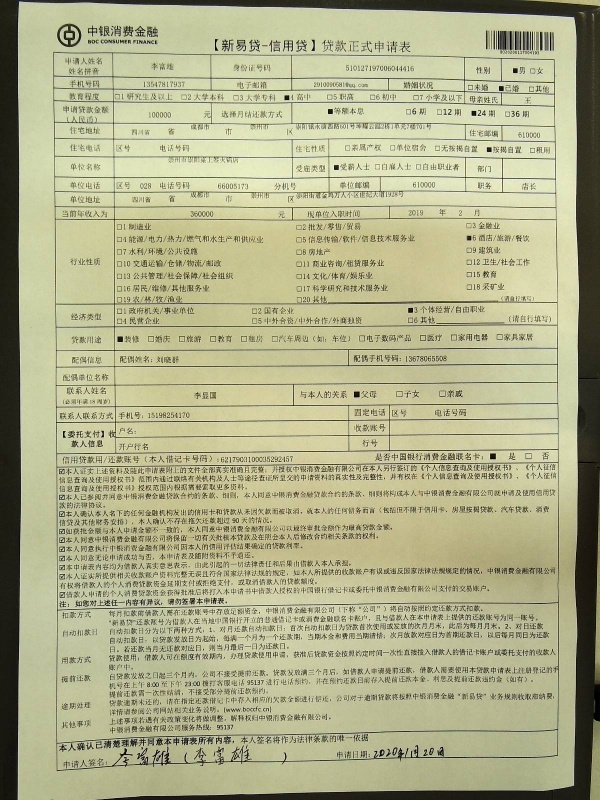text: (113, 744, 128, 770), (129, 744, 144, 770), (145, 744, 160, 770), (161, 744, 176, 770), (177, 744, 192, 770), (193, 744, 208, 770), (209, 744, 224, 770), (225, 744, 240, 770), (241, 744, 256, 770), (257, 744, 272, 770), (273, 744, 288, 770), (65, 733, 80, 754), (81, 733, 96, 754), (97, 733, 112, 754), (113, 733, 128, 754), (129, 733, 144, 754), (145, 733, 160, 754), (161, 733, 176, 754), (177, 733, 192, 754), (193, 733, 208, 754), (209, 733, 224, 754), (225, 733, 240, 754), (241, 733, 256, 754), (257, 733, 272, 754), (273, 733, 288, 754), (289, 733, 304, 754), (305, 733, 320, 754), (321, 733, 336, 754), (337, 733, 352, 754), (353, 733, 368, 754), (385, 742, 400, 761), (401, 742, 416, 761), (417, 742, 432, 761), (433, 742, 448, 761), (225, 38, 240, 56), (241, 38, 256, 56), (257, 38, 272, 56), (273, 38, 288, 56), (289, 38, 304, 56), (305, 38, 320, 56), (321, 38, 336, 56), (337, 38, 352, 56), (353, 38, 368, 56), (369, 38, 384, 56), (385, 38, 400, 56), (401, 38, 416, 56), (305, 231, 320, 247), (321, 231, 336, 247), (337, 231, 352, 247), (353, 231, 368, 247), (369, 231, 384, 247), (385, 231, 400, 247), (401, 231, 416, 247), (65, 566, 80, 582), (81, 566, 96, 582), (97, 566, 112, 582), (113, 566, 128, 582), (129, 566, 144, 582), (145, 566, 160, 582), (161, 566, 176, 582), (177, 566, 192, 582), (193, 566, 208, 582), (209, 566, 224, 582), (225, 566, 240, 582), (241, 566, 256, 582), (257, 566, 272, 582), (273, 566, 288, 582), (289, 566, 304, 582), (305, 566, 320, 582), (321, 566, 336, 582), (337, 566, 352, 582), (353, 566, 368, 582), (369, 566, 384, 582), (385, 566, 400, 582), (401, 566, 416, 582), (417, 566, 432, 582), (433, 566, 448, 582), (449, 566, 464, 582), (465, 566, 480, 582), (481, 566, 496, 582), (497, 566, 512, 582), (513, 566, 528, 582), (529, 566, 544, 582), (65, 584, 80, 600), (81, 584, 96, 600), (97, 584, 112, 600), (113, 584, 128, 600), (129, 584, 144, 600), (145, 584, 160, 600), (161, 584, 176, 600), (177, 584, 192, 600), (193, 584, 208, 600), (209, 584, 224, 600), (225, 584, 240, 600), (241, 584, 256, 600), (257, 584, 272, 600), (273, 584, 288, 600), (289, 584, 304, 600), (305, 584, 320, 600), (321, 584, 336, 600), (337, 584, 352, 600), (353, 584, 368, 600), (369, 584, 384, 600), (385, 584, 400, 600), (401, 584, 416, 600), (417, 584, 432, 600), (433, 584, 448, 600), (449, 584, 464, 600), (465, 584, 480, 600), (65, 596, 80, 612), (81, 596, 96, 612), (97, 596, 112, 612), (113, 596, 128, 612), (129, 596, 144, 612), (145, 596, 160, 612), (161, 596, 176, 612), (177, 596, 192, 612), (193, 596, 208, 612), (209, 596, 224, 612), (113, 621, 128, 637), (129, 621, 144, 637), (145, 621, 160, 637), (161, 621, 176, 637), (177, 621, 192, 637), (193, 621, 208, 637), (209, 621, 224, 637), (225, 621, 240, 637), (241, 621, 256, 637), (257, 621, 272, 637), (273, 621, 288, 637), (289, 621, 304, 637), (305, 621, 320, 637), (321, 621, 336, 637), (337, 621, 352, 637), (353, 621, 368, 637), (369, 621, 384, 637), (385, 621, 400, 637), (401, 621, 416, 637), (417, 621, 432, 637), (433, 621, 448, 637), (449, 621, 464, 637), (465, 621, 480, 637), (481, 621, 496, 637), (497, 621, 512, 637), (513, 621, 528, 637), (529, 621, 544, 637), (545, 666, 561, 681), (113, 675, 128, 691), (129, 675, 144, 691), (145, 675, 160, 691), (161, 675, 176, 691), (177, 675, 192, 691), (193, 675, 208, 691), (209, 675, 224, 691), (225, 675, 240, 691), (241, 675, 256, 691), (257, 675, 272, 691), (273, 675, 288, 691), (289, 675, 304, 691), (305, 675, 320, 691), (321, 675, 336, 691), (337, 675, 352, 691), (353, 675, 368, 691), (369, 675, 384, 691), (385, 675, 400, 691), (401, 675, 416, 691), (417, 675, 432, 691), (433, 675, 448, 691), (449, 675, 464, 691), (465, 675, 480, 691), (481, 675, 496, 691), (497, 675, 512, 691), (513, 675, 528, 691), (113, 692, 128, 708), (129, 692, 144, 708), (145, 692, 160, 708), (161, 692, 176, 708), (177, 692, 192, 708), (193, 692, 208, 708), (209, 692, 224, 708), (225, 692, 240, 708), (241, 692, 256, 708), (257, 692, 272, 708), (273, 692, 288, 708), (289, 692, 304, 708), (305, 692, 320, 708), (321, 692, 336, 708), (337, 692, 352, 708), (353, 692, 368, 708), (369, 692, 384, 708), (385, 692, 400, 708), (401, 692, 416, 708), (417, 692, 432, 708), (433, 692, 448, 708), (449, 692, 464, 708), (465, 692, 480, 708), (481, 692, 496, 708), (497, 692, 512, 708), (513, 692, 528, 708), (529, 692, 544, 708), (545, 692, 560, 708), (321, 712, 337, 727), (97, 25, 112, 40), (113, 25, 128, 40), (129, 25, 144, 40), (145, 25, 160, 40), (129, 269, 144, 284), (145, 269, 160, 284), (161, 269, 176, 284), (177, 269, 192, 284), (193, 269, 208, 284), (209, 269, 224, 284), (129, 331, 144, 346), (145, 331, 160, 346), (161, 331, 176, 346), (177, 331, 192, 346), (193, 331, 208, 346), (209, 331, 224, 346), (225, 331, 240, 346), (241, 331, 256, 346), (257, 331, 272, 346), (273, 331, 288, 346), (289, 331, 304, 346), (305, 331, 320, 346), (321, 331, 336, 346), (337, 331, 352, 346), (353, 331, 368, 346), (369, 331, 384, 346), (385, 331, 400, 346), (401, 331, 416, 346), (417, 331, 432, 346), (433, 331, 448, 346), (449, 331, 464, 346), (465, 331, 480, 346), (481, 331, 496, 346), (497, 331, 512, 346), (513, 331, 528, 346), (65, 471, 80, 486), (81, 471, 96, 486), (97, 471, 112, 486), (113, 471, 128, 486), (129, 471, 144, 486), (145, 471, 160, 486), (161, 471, 176, 486), (177, 471, 192, 486), (193, 471, 208, 486), (209, 471, 224, 486), (225, 471, 240, 486), (241, 471, 256, 486), (257, 471, 272, 486), (273, 471, 288, 486), (289, 471, 304, 486), (305, 471, 320, 486), (321, 471, 336, 486), (337, 471, 352, 486), (353, 471, 368, 486), (369, 471, 384, 486), (385, 471, 400, 486), (401, 471, 416, 486), (417, 471, 432, 486), (433, 471, 448, 486), (449, 471, 464, 486), (465, 471, 480, 486), (481, 471, 496, 486), (497, 471, 512, 486), (513, 471, 528, 486), (529, 471, 544, 486), (65, 577, 80, 592), (81, 577, 96, 592), (97, 577, 112, 592), (113, 577, 128, 592), (129, 577, 144, 592), (145, 577, 160, 592), (161, 577, 176, 592), (177, 577, 192, 592), (193, 577, 208, 592), (209, 577, 224, 592), (225, 577, 240, 592), (241, 577, 256, 592), (257, 577, 272, 592), (273, 577, 288, 592), (289, 577, 304, 592), (305, 577, 320, 592), (113, 604, 128, 619), (129, 604, 144, 619), (145, 604, 160, 619), (161, 604, 176, 619), (177, 604, 192, 619), (193, 604, 208, 619), (209, 604, 224, 619), (225, 604, 240, 619), (241, 604, 256, 619), (257, 604, 272, 619), (273, 604, 288, 619), (289, 604, 304, 619), (305, 604, 320, 619), (321, 604, 336, 619), (337, 604, 352, 619), (353, 604, 368, 619), (369, 604, 384, 619), (385, 604, 400, 619), (401, 604, 416, 619), (417, 604, 432, 619), (433, 604, 448, 619), (449, 604, 464, 619), (465, 604, 480, 619), (113, 613, 128, 628), (129, 613, 144, 628), (145, 613, 160, 628), (161, 613, 176, 628), (177, 613, 192, 628), (193, 613, 208, 628), (209, 613, 224, 628), (225, 613, 240, 628), (241, 613, 256, 628), (257, 613, 272, 628), (273, 613, 288, 628), (289, 613, 304, 628), (305, 613, 320, 628), (321, 613, 336, 628), (337, 613, 352, 628), (353, 613, 368, 628), (369, 613, 384, 628), (385, 613, 400, 628), (401, 613, 416, 628), (417, 613, 432, 628), (433, 613, 448, 628), (449, 613, 464, 628), (465, 613, 480, 628), (481, 613, 496, 628), (497, 613, 512, 628), (513, 613, 528, 628), (113, 631, 128, 646), (129, 631, 144, 646), (145, 631, 160, 646), (161, 631, 176, 646), (177, 631, 192, 646), (193, 631, 208, 646), (209, 631, 224, 646), (225, 631, 240, 646), (241, 631, 256, 646), (257, 631, 272, 646), (273, 631, 288, 646), (289, 631, 304, 646), (305, 631, 320, 646), (321, 631, 336, 646), (337, 631, 352, 646), (353, 631, 368, 646), (369, 631, 384, 646), (385, 631, 400, 646), (401, 631, 416, 646), (417, 631, 432, 646), (433, 631, 448, 646), (449, 631, 464, 646), (465, 631, 480, 646), (481, 631, 496, 646), (497, 631, 512, 646), (513, 631, 528, 646), (529, 631, 544, 646), (113, 648, 128, 663), (129, 648, 144, 663), (145, 648, 160, 663), (161, 648, 176, 663), (177, 648, 192, 663), (193, 648, 208, 663), (209, 648, 224, 663), (225, 648, 240, 663), (241, 648, 256, 663), (257, 648, 272, 663), (273, 648, 288, 663), (289, 648, 304, 663), (305, 648, 320, 663), (321, 648, 336, 663), (337, 648, 352, 663), (353, 648, 368, 663), (369, 648, 384, 663), (385, 648, 400, 663), (401, 648, 416, 663), (417, 648, 432, 663), (433, 648, 448, 663), (449, 648, 464, 663), (465, 648, 480, 663), (481, 648, 496, 663), (497, 648, 512, 663), (513, 648, 528, 663), (529, 648, 544, 663), (113, 666, 128, 681), (129, 666, 144, 681), (145, 666, 160, 681), (161, 666, 176, 681), (177, 666, 192, 681), (193, 666, 208, 681), (209, 666, 224, 681), (225, 666, 240, 681), (241, 666, 256, 681), (257, 666, 272, 681), (273, 666, 288, 681), (289, 666, 304, 681), (305, 666, 320, 681), (321, 666, 336, 681), (337, 666, 352, 681), (353, 666, 368, 681), (369, 666, 384, 681), (385, 666, 400, 681), (401, 666, 416, 681), (417, 666, 432, 681), (433, 666, 448, 681), (449, 666, 464, 681), (465, 666, 480, 681), (481, 666, 496, 681), (497, 666, 512, 681), (513, 666, 528, 681), (529, 666, 544, 681), (113, 712, 128, 727), (129, 712, 144, 727), (145, 712, 160, 727), (161, 712, 176, 727), (177, 712, 192, 727), (193, 712, 208, 727), (209, 712, 224, 727), (225, 712, 240, 727), (241, 712, 256, 727), (257, 712, 272, 727), (273, 712, 288, 727), (289, 712, 304, 727), (305, 712, 320, 727), (113, 722, 128, 737), (129, 722, 144, 737), (145, 722, 160, 737), (161, 722, 176, 737), (177, 722, 192, 737), (193, 722, 208, 737), (209, 722, 224, 737), (65, 756, 80, 771), (81, 756, 96, 771), (337, 748, 352, 763), (353, 748, 368, 763), (545, 566, 559, 582), (212, 38, 224, 56), (417, 106, 432, 120), (433, 106, 448, 120), (449, 106, 464, 120), (465, 106, 480, 120), (481, 106, 496, 120), (497, 106, 512, 120), (513, 106, 528, 120), (129, 245, 144, 259), (145, 245, 160, 259), (161, 245, 176, 259), (177, 245, 192, 259), (129, 257, 144, 271), (145, 257, 160, 271), (161, 257, 176, 271), (177, 257, 192, 271), (193, 257, 208, 271), (209, 257, 224, 271), (225, 269, 239, 284), (305, 220, 320, 234), (321, 220, 336, 234), (337, 220, 352, 234), (305, 257, 320, 271), (321, 257, 336, 271), (337, 257, 352, 271), (353, 257, 368, 271), (369, 257, 384, 271), (305, 269, 320, 283), (321, 269, 336, 283), (337, 269, 352, 283), (353, 269, 368, 283), (257, 314, 272, 328), (273, 314, 288, 328), (289, 314, 304, 328), (305, 314, 320, 328), (321, 314, 336, 328), (337, 314, 352, 328), (385, 450, 400, 464), (401, 450, 416, 464), (417, 450, 432, 464), (433, 450, 448, 464), (449, 450, 464, 464), (465, 450, 480, 464), (481, 450, 496, 464), (497, 450, 512, 464), (513, 450, 528, 464), (529, 450, 544, 464), (65, 462, 80, 476), (81, 462, 96, 476), (97, 462, 112, 476), (113, 462, 128, 476), (129, 462, 144, 476), (145, 462, 160, 476), (161, 462, 176, 476), (177, 462, 192, 476), (193, 462, 208, 476), (209, 462, 224, 476), (225, 462, 240, 476), (241, 462, 256, 476), (257, 462, 272, 476), (273, 462, 288, 476), (289, 462, 304, 476), (305, 462, 320, 476), (321, 462, 336, 476), (337, 462, 352, 476), (353, 462, 368, 476), (369, 462, 384, 476), (385, 462, 400, 476), (401, 462, 416, 476), (417, 462, 432, 476), (433, 462, 448, 476), (449, 462, 464, 476), (465, 462, 480, 476), (481, 462, 496, 476), (497, 462, 512, 476), (513, 462, 528, 476), (529, 462, 544, 476), (545, 462, 560, 476), (545, 471, 559, 486), (65, 488, 80, 502), (81, 488, 96, 502), (97, 488, 112, 502), (113, 488, 128, 502), (129, 488, 144, 502), (145, 488, 160, 502), (161, 488, 176, 502), (177, 488, 192, 502), (193, 488, 208, 502), (209, 488, 224, 502), (225, 488, 240, 502), (241, 488, 256, 502), (257, 488, 272, 502), (273, 488, 288, 502), (289, 488, 304, 502), (305, 488, 320, 502), (321, 488, 336, 502), (337, 488, 352, 502), (353, 488, 368, 502), (369, 488, 384, 502), (385, 488, 400, 502), (401, 488, 416, 502), (417, 488, 432, 502), (433, 488, 448, 502), (449, 488, 464, 502), (465, 488, 480, 502), (481, 488, 496, 502), (497, 488, 512, 502), (513, 488, 528, 502), (529, 488, 544, 502), (65, 505, 80, 519), (81, 505, 96, 519), (97, 505, 112, 519), (113, 505, 128, 519), (129, 505, 144, 519), (145, 505, 160, 519), (161, 505, 176, 519), (177, 505, 192, 519), (193, 505, 208, 519), (209, 505, 224, 519), (225, 505, 240, 519), (241, 505, 256, 519), (257, 505, 272, 519), (273, 505, 288, 519), (289, 505, 304, 519), (305, 505, 320, 519), (321, 505, 336, 519), (337, 505, 352, 519), (353, 505, 368, 519), (369, 505, 384, 519), (385, 505, 400, 519), (401, 505, 416, 519), (417, 505, 432, 519), (433, 505, 448, 519), (449, 505, 464, 519), (465, 505, 480, 519), (481, 505, 496, 519), (497, 505, 512, 519), (513, 505, 528, 519), (529, 505, 544, 519), (65, 523, 80, 537), (81, 523, 96, 537), (97, 523, 112, 537), (113, 523, 128, 537), (129, 523, 144, 537), (145, 523, 160, 537), (161, 523, 176, 537), (177, 523, 192, 537), (193, 523, 208, 537), (209, 523, 224, 537), (225, 523, 240, 537), (241, 523, 256, 537), (257, 523, 272, 537), (273, 523, 288, 537), (289, 523, 304, 537), (305, 523, 320, 537), (321, 523, 336, 537), (337, 523, 352, 537), (353, 523, 368, 537), (369, 523, 384, 537), (65, 531, 80, 545), (81, 531, 96, 545), (97, 531, 112, 545), (113, 531, 128, 545), (129, 531, 144, 545), (145, 531, 160, 545), (161, 531, 176, 545), (177, 531, 192, 545), (193, 531, 208, 545), (209, 531, 224, 545), (225, 531, 240, 545), (241, 531, 256, 545), (257, 531, 272, 545), (273, 531, 288, 545), (289, 531, 304, 545), (305, 531, 320, 545), (321, 531, 336, 545), (337, 531, 352, 545), (353, 531, 368, 545), (65, 541, 80, 555), (81, 541, 96, 555), (97, 541, 112, 555), (113, 541, 128, 555), (129, 541, 144, 555), (145, 541, 160, 555), (161, 541, 176, 555), (177, 541, 192, 555), (193, 541, 208, 555), (209, 541, 224, 555), (225, 541, 240, 555), (241, 541, 256, 555), (257, 541, 272, 555), (273, 541, 288, 555), (289, 541, 304, 555), (65, 559, 80, 573), (81, 559, 96, 573), (97, 559, 112, 573), (113, 559, 128, 573), (129, 559, 144, 573), (145, 559, 160, 573), (161, 559, 176, 573), (177, 559, 192, 573), (193, 559, 208, 573), (209, 559, 224, 573), (225, 559, 240, 573), (241, 559, 256, 573), (257, 559, 272, 573), (273, 559, 288, 573), (289, 559, 304, 573), (305, 559, 320, 573), (321, 559, 336, 573), (337, 559, 352, 573), (65, 673, 80, 687), (529, 613, 543, 628), (113, 642, 128, 656), (129, 642, 144, 656), (145, 642, 160, 656), (161, 642, 176, 656), (177, 642, 192, 656), (193, 642, 208, 656), (209, 642, 224, 656), (225, 642, 240, 656), (241, 642, 256, 656), (257, 642, 272, 656), (273, 642, 288, 656), (113, 705, 128, 719), (129, 705, 144, 719), (145, 705, 160, 719), (161, 705, 176, 719), (177, 705, 192, 719), (193, 705, 208, 719), (209, 705, 224, 719), (225, 705, 240, 719), (241, 705, 256, 719), (257, 705, 272, 719), (373, 742, 384, 761), (114, 245, 128, 259), (545, 488, 559, 502), (369, 531, 383, 545), (81, 673, 95, 687), (241, 62, 256, 75), (257, 62, 272, 75), (129, 92, 144, 105), (145, 92, 160, 105), (161, 92, 176, 105), (177, 92, 192, 105), (193, 92, 208, 105), (209, 92, 224, 105), (225, 92, 240, 105), (241, 92, 256, 105), (257, 92, 272, 105), (273, 92, 288, 105), (289, 92, 304, 105), (305, 92, 320, 105), (321, 92, 336, 105), (337, 92, 352, 105), (353, 92, 368, 105), (369, 92, 384, 105), (385, 92, 400, 105), (401, 92, 416, 105), (417, 92, 432, 105), (433, 92, 448, 105), (449, 92, 464, 105), (81, 124, 96, 137), (353, 143, 368, 156), (369, 143, 384, 156), (385, 143, 400, 156), (401, 143, 416, 156), (417, 143, 432, 156), (433, 143, 448, 156), (449, 143, 464, 156), (465, 143, 480, 156), (481, 143, 496, 156), (497, 143, 512, 156), (513, 143, 528, 156), (529, 143, 544, 156), (305, 163, 320, 176), (115, 269, 128, 284), (129, 281, 144, 294), (145, 281, 160, 294), (161, 281, 176, 294), (177, 281, 192, 294), (193, 281, 208, 294), (305, 246, 320, 259), (321, 246, 336, 259), (465, 256, 480, 269), (481, 256, 496, 269), (497, 256, 512, 269), (513, 256, 528, 269), (465, 281, 480, 294), (481, 281, 496, 294), (417, 315, 432, 328), (513, 314, 528, 327), (529, 314, 544, 327), (129, 354, 144, 367), (145, 354, 160, 367), (161, 354, 176, 367), (305, 388, 320, 401), (321, 388, 336, 401), (337, 388, 352, 401), (353, 388, 368, 401), (369, 388, 384, 401), (385, 388, 400, 401), (401, 388, 416, 401), (417, 388, 432, 401), (433, 388, 448, 401), (449, 388, 464, 401), (449, 406, 464, 419), (65, 454, 80, 467), (81, 454, 96, 467), (97, 454, 112, 467), (113, 454, 128, 467), (129, 454, 144, 467), (145, 454, 160, 467), (161, 454, 176, 467), (177, 454, 192, 467), (193, 454, 208, 467), (209, 454, 224, 467), (225, 454, 240, 467), (241, 454, 256, 467), (257, 454, 272, 467), (273, 454, 288, 467), (65, 550, 80, 563), (81, 550, 96, 563), (97, 550, 112, 563), (113, 550, 128, 563), (129, 550, 144, 563), (145, 550, 160, 563), (161, 550, 176, 563), (177, 550, 192, 563), (193, 550, 208, 563), (209, 550, 224, 563), (225, 550, 240, 563), (241, 550, 256, 563), (65, 626, 80, 639), (81, 626, 96, 639), (65, 655, 80, 668), (81, 655, 96, 668), (65, 700, 80, 713), (65, 718, 80, 731), (545, 648, 558, 663), (113, 687, 128, 700), (129, 687, 144, 700), (145, 687, 160, 700), (161, 687, 176, 700), (177, 687, 192, 700), (193, 687, 208, 700), (209, 687, 224, 700), (225, 687, 240, 700), (241, 687, 256, 700), (257, 687, 272, 700), (225, 722, 238, 737), (97, 756, 110, 771), (481, 584, 493, 600), (115, 257, 128, 271), (353, 220, 366, 234), (434, 406, 448, 419), (81, 718, 95, 731), (353, 62, 368, 74), (369, 62, 384, 74), (385, 62, 400, 74), (401, 62, 416, 74), (481, 82, 496, 94), (497, 82, 512, 94), (513, 82, 528, 94), (529, 82, 544, 94), (481, 94, 496, 106), (337, 162, 352, 174), (353, 162, 368, 174), (369, 162, 384, 174), (385, 162, 400, 174), (401, 162, 416, 174), (417, 162, 432, 174), (433, 162, 448, 174), (81, 194, 96, 206), (129, 294, 144, 306), (145, 294, 160, 306), (161, 294, 176, 306), (305, 282, 320, 294), (321, 282, 336, 294), (337, 282, 352, 294), (353, 282, 368, 294), (369, 282, 384, 294), (305, 294, 320, 306), (481, 232, 496, 244), (497, 232, 512, 244), (513, 232, 528, 244), (465, 269, 480, 281), (481, 269, 496, 281), (417, 304, 432, 316), (433, 304, 448, 316), (449, 304, 464, 316), (465, 304, 480, 316), (81, 335, 96, 347), (353, 352, 368, 364), (369, 352, 384, 364), (385, 352, 400, 364), (401, 352, 416, 364), (417, 352, 432, 364), (433, 352, 448, 364), (65, 386, 80, 398), (81, 386, 96, 398), (193, 390, 208, 402), (369, 407, 384, 419), (385, 407, 400, 419), (65, 429, 80, 441), (81, 429, 96, 441), (97, 429, 112, 441), (129, 441, 144, 453), (65, 482, 80, 494), (81, 482, 96, 494), (97, 482, 112, 494), (113, 482, 128, 494), (129, 482, 144, 494), (145, 482, 160, 494), (161, 482, 176, 494), (177, 482, 192, 494), (193, 482, 208, 494), (209, 482, 224, 494), (225, 482, 240, 494), (65, 516, 80, 528), (81, 516, 96, 528), (97, 516, 112, 528), (113, 516, 128, 528), (129, 516, 144, 528), (145, 516, 160, 528), (161, 516, 176, 528), (177, 516, 192, 528), (193, 516, 208, 528), (209, 516, 224, 528), (225, 516, 240, 528), (241, 516, 256, 528), (257, 516, 272, 528), (65, 609, 80, 621), (81, 609, 96, 621), (225, 155, 241, 166), (97, 372, 113, 383), (115, 92, 128, 105), (81, 700, 94, 713), (466, 82, 480, 94), (193, 245, 205, 259), (466, 232, 480, 244), (353, 314, 365, 328), (97, 386, 111, 398), (354, 407, 368, 419), (369, 438, 383, 450), (65, 56, 80, 67), (81, 56, 96, 67), (81, 67, 96, 78), (161, 61, 176, 72), (513, 65, 528, 76), (529, 65, 544, 76), (241, 80, 256, 91), (417, 80, 432, 91), (65, 105, 80, 116), (81, 105, 96, 116), (81, 114, 96, 125), (337, 106, 352, 117), (161, 144, 176, 155), (177, 144, 192, 155), (305, 144, 320, 155), (81, 162, 96, 173), (177, 155, 192, 166), (193, 155, 208, 166), (209, 155, 224, 166), (481, 164, 496, 175), (81, 180, 96, 191), (225, 181, 240, 192), (273, 181, 288, 192), (353, 180, 368, 191), (193, 209, 208, 220), (305, 209, 320, 220), (321, 209, 336, 220), (337, 209, 352, 220), (417, 208, 432, 219), (433, 208, 448, 219), (449, 208, 464, 219), (465, 208, 480, 219), (81, 257, 96, 268), (129, 235, 144, 246), (145, 235, 160, 246), (161, 235, 176, 246), (177, 235, 192, 246), (193, 235, 208, 246), (209, 235, 224, 246), (225, 235, 240, 246), (241, 235, 256, 246), (465, 245, 480, 256), (481, 245, 496, 256), (81, 312, 96, 323), (129, 306, 144, 317), (145, 306, 160, 317), (161, 306, 176, 317), (177, 306, 192, 317), (257, 306, 272, 317), (273, 306, 288, 317), (117, 331, 128, 346), (65, 372, 80, 383), (81, 372, 96, 383), (65, 410, 80, 421), (81, 410, 96, 421), (97, 410, 112, 421), (113, 410, 128, 421), (129, 410, 144, 421), (145, 410, 160, 421), (161, 410, 176, 421), (177, 410, 192, 421), (81, 439, 96, 450), (65, 500, 80, 511), (81, 500, 96, 511), (113, 662, 128, 673), (449, 162, 462, 174), (116, 281, 128, 294), (115, 294, 128, 306), (292, 246, 304, 259), (497, 281, 509, 294), (97, 105, 111, 116), (66, 114, 80, 125), (405, 106, 416, 120), (481, 181, 495, 192), (373, 450, 384, 464), (385, 523, 396, 537), (86, 25, 96, 40), (97, 37, 112, 47), (113, 37, 128, 47), (129, 37, 144, 47), (145, 37, 160, 47), (81, 79, 96, 89), (145, 80, 160, 90), (161, 80, 176, 90), (321, 81, 336, 91), (337, 81, 352, 91), (353, 81, 368, 91), (225, 109, 240, 119), (241, 109, 256, 119), (257, 109, 272, 119), (193, 123, 208, 133), (481, 128, 496, 138), (529, 131, 544, 141), (81, 143, 96, 153), (129, 181, 144, 191), (145, 181, 160, 191), (161, 181, 176, 191), (177, 181, 192, 191), (65, 209, 80, 219), (81, 209, 96, 219), (129, 222, 144, 232), (465, 221, 480, 231), (481, 221, 496, 231), (129, 316, 144, 326), (145, 316, 160, 326), (81, 355, 96, 365), (65, 396, 80, 406), (81, 396, 96, 406), (97, 396, 112, 406), (369, 425, 384, 435), (295, 231, 304, 247), (209, 390, 221, 402), (67, 67, 80, 78), (481, 65, 494, 76), (257, 80, 270, 91), (403, 80, 416, 91), (353, 106, 366, 117), (69, 124, 80, 137), (131, 195, 144, 206), (161, 110, 175, 120), (294, 220, 304, 234), (294, 257, 304, 271), (354, 425, 368, 435), (545, 450, 555, 464), (513, 48, 528, 57), (81, 92, 96, 101), (193, 191, 208, 200), (305, 191, 320, 200), (321, 191, 336, 200), (337, 191, 352, 200), (353, 191, 368, 200), (369, 191, 384, 200), (385, 191, 400, 200), (513, 295, 528, 304), (529, 331, 538, 346), (340, 180, 352, 191), (529, 182, 541, 193), (69, 194, 80, 206), (68, 257, 80, 268), (116, 235, 128, 246), (293, 294, 304, 306), (116, 306, 128, 317), (401, 407, 412, 419), (117, 441, 128, 453), (241, 482, 252, 494), (115, 316, 128, 326), (545, 314, 555, 327), (529, 675, 537, 691), (529, 48, 543, 57), (226, 194, 240, 203), (295, 269, 304, 283), (69, 162, 80, 173), (69, 180, 80, 191), (241, 181, 252, 192), (353, 209, 364, 220), (97, 439, 108, 450), (97, 500, 108, 511), (177, 80, 189, 90), (470, 94, 480, 106), (148, 110, 160, 120), (273, 109, 285, 119), (129, 129, 144, 137), (257, 123, 272, 131), (305, 123, 320, 131), (321, 123, 336, 131), (337, 123, 352, 131), (353, 123, 368, 131), (369, 123, 384, 131), (385, 123, 400, 131), (401, 123, 416, 131), (417, 123, 432, 131), (116, 181, 128, 191), (417, 181, 432, 189), (257, 192, 272, 200), (97, 209, 109, 219), (116, 222, 128, 232), (177, 294, 187, 306), (321, 294, 331, 306), (406, 304, 416, 316), (545, 631, 553, 646), (499, 48, 512, 57), (231, 62, 240, 75), (295, 163, 304, 176), (407, 315, 416, 328), (119, 354, 128, 367), (369, 269, 377, 283), (225, 596, 232, 612), (150, 61, 160, 72), (69, 79, 80, 89), (326, 106, 336, 117), (469, 128, 480, 138), (289, 181, 299, 192), (257, 235, 267, 246), (497, 245, 507, 256), (118, 426, 128, 437), (129, 426, 139, 437), (129, 662, 139, 673), (68, 92, 80, 101), (116, 144, 128, 153), (289, 194, 298, 206), (295, 282, 304, 294), (71, 335, 80, 347), (359, 438, 368, 450), (59, 733, 64, 754), (344, 143, 352, 156), (545, 143, 553, 156), (518, 131, 528, 141), (70, 143, 80, 153), (167, 126, 176, 137), (501, 295, 512, 304), (71, 312, 80, 323), (289, 306, 298, 317), (71, 439, 80, 450), (249, 314, 256, 328), (545, 505, 552, 519), (57, 531, 64, 545), (57, 541, 64, 555), (57, 559, 64, 573), (97, 194, 105, 206), (385, 282, 393, 294), (481, 304, 489, 316), (97, 335, 105, 347), (58, 566, 64, 582), (58, 584, 64, 600), (58, 596, 64, 612), (289, 454, 296, 467), (225, 127, 234, 137), (145, 222, 154, 232), (71, 355, 80, 365), (58, 471, 64, 486), (58, 577, 64, 592), (481, 604, 487, 619), (97, 56, 105, 67), (289, 127, 297, 138), (296, 144, 304, 155), (168, 155, 176, 166), (145, 195, 153, 206), (168, 194, 176, 205), (277, 211, 288, 219), (408, 208, 416, 219), (345, 62, 352, 74), (545, 82, 552, 94), (145, 441, 152, 453), (58, 488, 64, 502), (58, 505, 64, 519), (273, 516, 280, 528), (58, 523, 64, 537), (289, 642, 295, 656), (529, 295, 538, 304), (88, 37, 96, 47), (497, 221, 505, 231), (97, 355, 105, 365), (97, 124, 103, 137), (321, 163, 327, 176), (433, 315, 439, 328), (177, 354, 183, 367), (58, 550, 64, 563), (97, 162, 104, 173), (217, 181, 224, 192), (521, 182, 528, 193), (209, 209, 216, 220), (107, 613, 112, 628), (369, 748, 374, 763), (296, 191, 304, 200), (401, 191, 409, 200), (497, 269, 503, 281), (58, 482, 64, 494), (58, 516, 64, 528), (97, 79, 104, 89), (313, 81, 320, 91), (209, 110, 216, 120), (529, 106, 534, 120), (97, 143, 104, 153), (59, 462, 64, 476), (59, 673, 64, 687), (97, 180, 103, 191), (97, 257, 103, 268), (97, 312, 103, 323), (193, 306, 199, 317), (58, 500, 64, 511), (209, 281, 214, 294), (299, 388, 304, 401), (465, 406, 470, 419), (145, 129, 153, 137), (296, 123, 304, 131), (108, 621, 112, 637), (108, 675, 112, 691), (108, 692, 112, 708), (497, 94, 502, 106), (529, 96, 535, 106), (529, 232, 534, 244), (113, 429, 118, 441), (108, 604, 112, 619), (108, 631, 112, 646), (108, 648, 112, 663), (108, 722, 112, 737), (249, 123, 256, 131), (385, 257, 389, 271), (108, 705, 112, 719), (273, 705, 277, 719), (97, 67, 102, 78), (475, 65, 480, 76), (321, 144, 326, 155), (251, 306, 256, 317), (107, 662, 112, 673), (97, 92, 103, 101), (529, 256, 533, 269), (508, 314, 512, 327), (60, 454, 64, 467), (257, 550, 261, 563), (97, 626, 101, 639), (108, 687, 112, 700), (289, 744, 291, 770), (523, 96, 528, 106), (203, 110, 208, 120), (385, 425, 390, 435), (433, 181, 439, 189), (161, 25, 164, 40), (109, 666, 112, 681), (109, 712, 112, 727), (333, 748, 336, 763), (236, 80, 240, 91), (433, 80, 437, 91), (97, 114, 101, 125), (369, 180, 373, 191), (60, 410, 64, 421), (305, 541, 308, 555), (353, 559, 356, 573), (109, 642, 112, 656), (369, 733, 371, 754), (497, 128, 501, 138), (251, 192, 256, 200), (60, 209, 64, 219), (161, 316, 165, 326), (465, 388, 468, 401), (61, 700, 64, 713), (449, 742, 451, 761), (129, 144, 133, 153), (333, 162, 336, 174), (449, 352, 452, 364), (285, 127, 288, 138), (477, 164, 480, 175), (177, 194, 180, 205), (481, 208, 484, 219), (61, 372, 64, 383), (412, 181, 416, 189), (545, 621, 547, 637), (369, 81, 372, 91), (221, 109, 224, 119), (321, 577, 323, 592), (225, 257, 227, 271), (189, 191, 192, 200), (273, 62, 275, 75), (462, 256, 464, 269), (62, 655, 64, 668), (62, 718, 64, 731), (417, 62, 419, 74), (62, 429, 64, 441), (62, 609, 64, 621), (177, 61, 179, 72), (510, 65, 512, 76), (545, 65, 547, 76), (478, 181, 480, 192), (190, 209, 192, 220), (193, 410, 195, 421), (190, 123, 192, 133), (209, 123, 211, 133), (193, 181, 195, 191), (62, 396, 64, 406), (209, 191, 211, 200), (433, 123, 435, 131), (417, 231, 418, 247), (63, 756, 64, 771), (465, 92, 466, 105), (337, 246, 338, 259), (273, 687, 274, 700), (287, 194, 288, 206), (463, 269, 464, 281), (63, 105, 64, 116), (161, 37, 162, 47), (143, 80, 144, 90), (113, 396, 114, 406)
